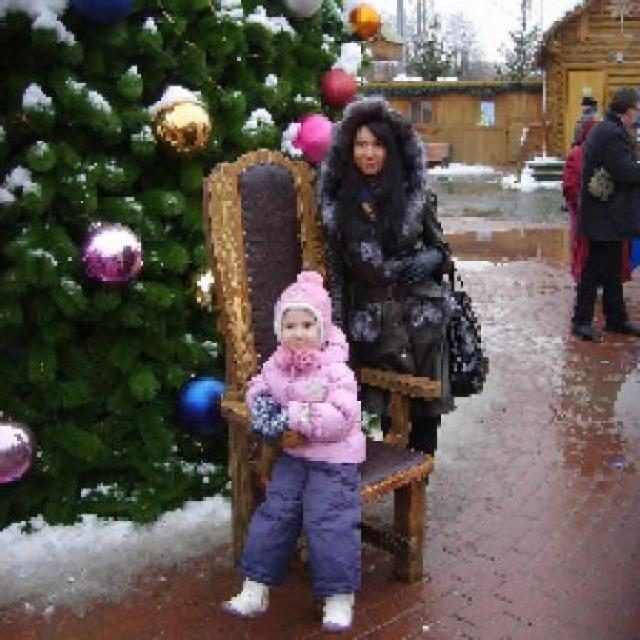child: (222, 267, 368, 633)
